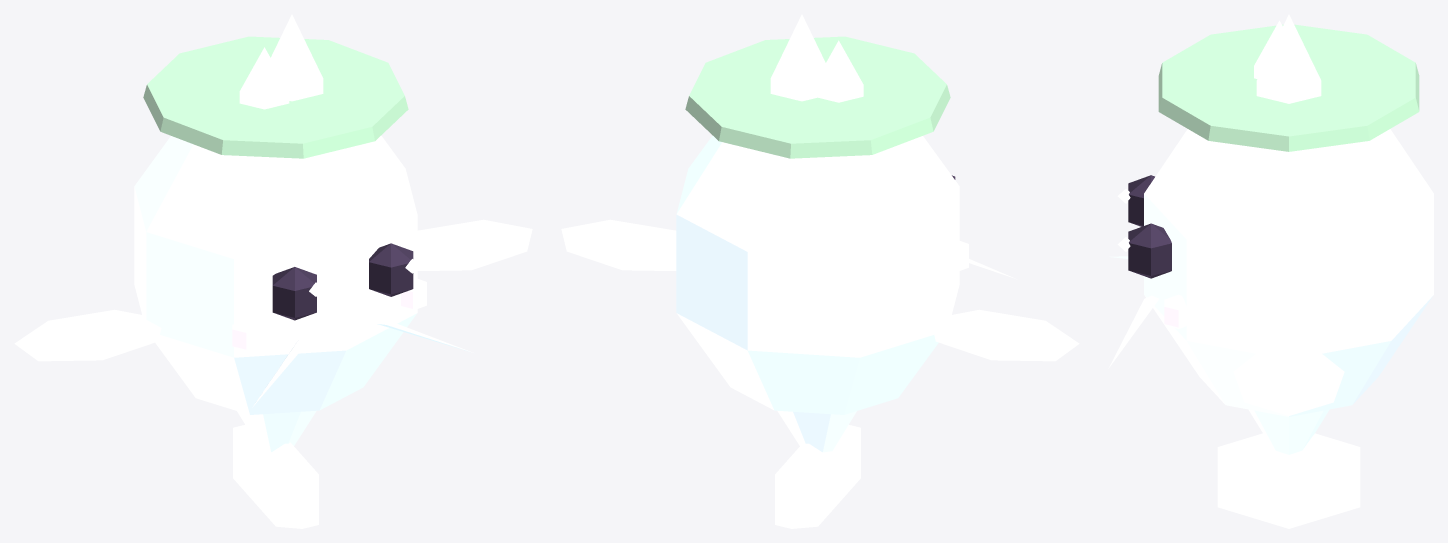
The model's file is spirit_pondle.glb.
The picture shows the model from 3 angles, left to right: view 1: azimuth 30°, elevation 25°; view 2: azimuth 150°, elevation 25°; view 3: azimuth 270°, elevation 25°; orthographic projection. The views are drawn at different scales.
Parts seen in each view (by area): view 1: body, sway, tail, fin_l, fin_r, eyes; view 2: body, sway, tail, fin_l, fin_r; view 3: body, sway, tail, fin_r, eyes, twitch_r.
Boxes of the visible parts, bbox=[...] form: body: bbox=[134, 135, 426, 452]; sway: bbox=[143, 14, 408, 158]; tail: bbox=[233, 425, 318, 528]; fin_l: bbox=[14, 309, 161, 361]; fin_r: bbox=[417, 219, 532, 270]; eyes: bbox=[272, 243, 419, 320]; body: bbox=[676, 135, 968, 452]; sway: bbox=[685, 14, 950, 158]; tail: bbox=[775, 425, 860, 528]; fin_l: bbox=[932, 309, 1079, 361]; fin_r: bbox=[561, 219, 676, 270]; body: bbox=[1144, 129, 1433, 454]; sway: bbox=[1158, 14, 1419, 151]; tail: bbox=[1217, 433, 1360, 528]; fin_r: bbox=[1233, 347, 1344, 415]; eyes: bbox=[1117, 175, 1171, 278]; twitch_r: bbox=[1108, 295, 1158, 368].
Bounding box in the file's own units: 3.16 × 3.03 × 1.71.
